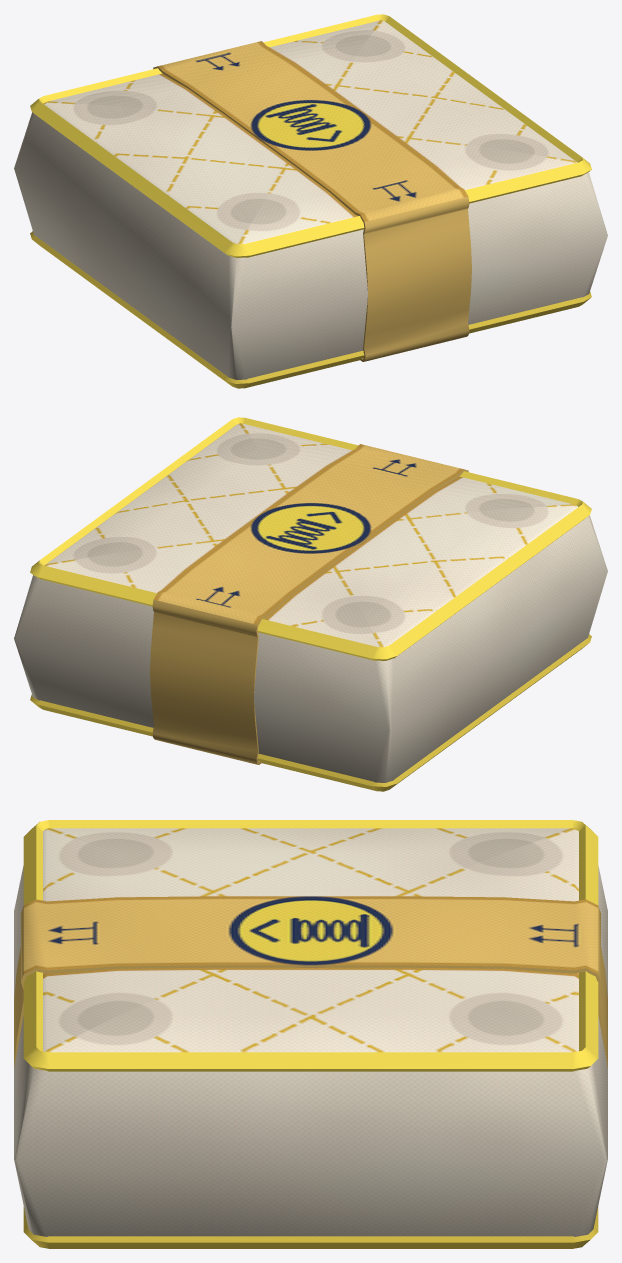
Rendered from reception_pillow_parcel_lod1.glb.
3 renders of one model, top to bottom at view 1: azimuth 30°, elevation 25°; view 2: azimuth 150°, elevation 25°; view 3: azimuth 270°, elevation 25°, orthographic. The views are drawn at different scales.
Visible parts, largest first — view 1: reception_pillow_parcel_LOD1; view 2: reception_pillow_parcel_LOD1; view 3: reception_pillow_parcel_LOD1.
Boxes of the visible parts, x1=… form: reception_pillow_parcel_LOD1: x1=14, y1=14, x2=607, y2=388; reception_pillow_parcel_LOD1: x1=14, y1=417, x2=607, y2=791; reception_pillow_parcel_LOD1: x1=14, y1=820, x2=607, y2=1248.
Bounding box in the file's own units: 8 × 3 × 8.
Materials: 1 (1 with a texture image).
